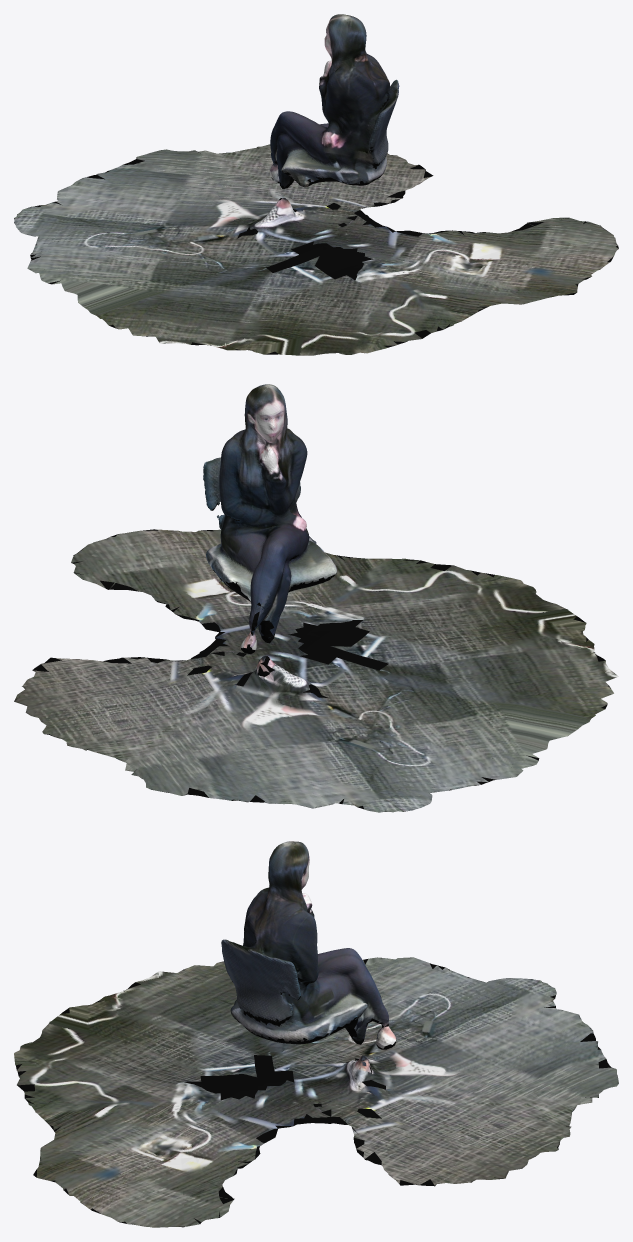
File: Rawan-at-engineering-east6.glb
3 renders of one model, top to bottom at view 1: azimuth 30°, elevation 25°; view 2: azimuth 150°, elevation 25°; view 3: azimuth 270°, elevation 25°, orthographic. The views are drawn at different scales.
Size of the model in its own units: 2.71 by 1.24 by 2.56.
1 material, 1 textured.
